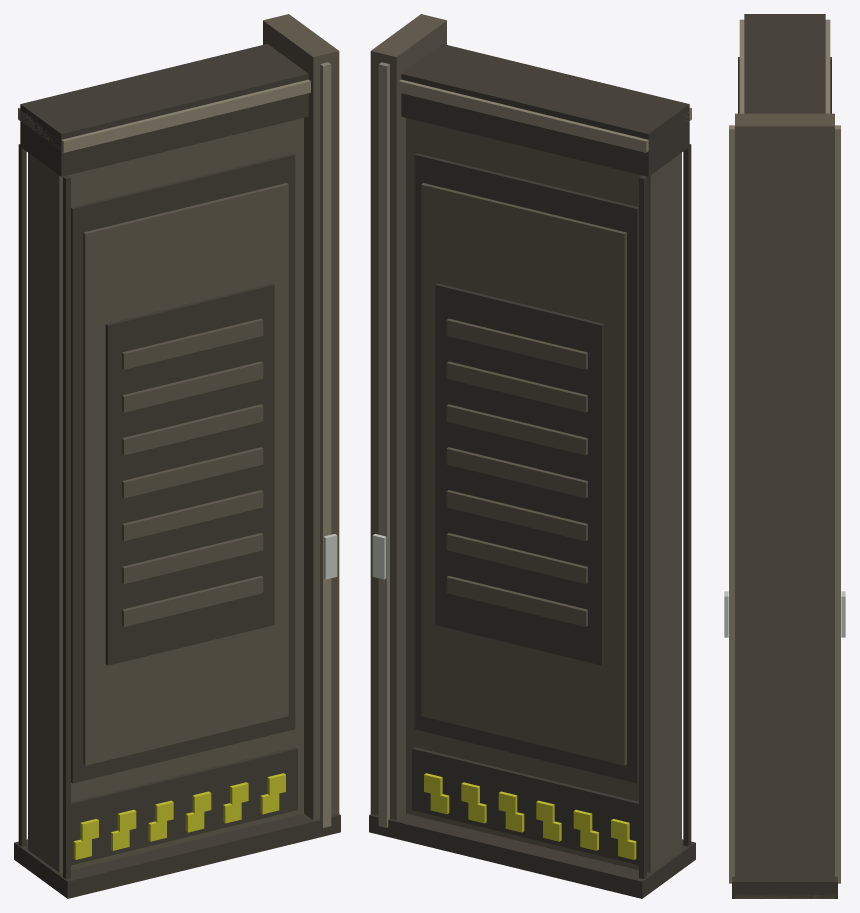
The model's file is CMU3DPairedGovforSolid.glb.
3 renders of one model, left to right at view 1: azimuth 30°, elevation 25°; view 2: azimuth 150°, elevation 25°; view 3: azimuth 270°, elevation 25°, orthographic.
Visible parts, largest first — view 1: inner face panel, single closed door leaf, large recessed solid panel, outer door jamb, leaf recessed face, continuous top track, solid panel narrow louvers (×7), meeting edge seal (×2), lower hazard band, outer jamb highlight, threshold, top track lip (+1 smaller); view 2: inner face panel back, single closed door leaf, large recessed solid panel back, outer door jamb, leaf recessed face back, continuous top track, solid panel narrow louvers back (×7), meeting edge seal (×2), lower hazard band back, outer jamb highlight, threshold, top track lip (+1 smaller); view 3: outer door jamb, outer jamb highlight (×2), continuous top track, threshold, top track lip.
Part boxes in pixels (x1,y1,x2,y2): inner face panel: (83,183,288,765); single closed door leaf: (28,118,303,872); large recessed solid panel: (105,283,274,665); outer door jamb: (263,14,339,820); leaf recessed face: (71,153,295,783); continuous top track: (20,44,308,176); solid panel narrow louvers (×7): (122,318,263,626); meeting edge seal (×2): (18,144,70,878); lower hazard band: (71,747,297,865); outer jamb highlight: (320,62,331,827); threshold: (14,813,340,898); top track lip: (18,79,310,152); inner face panel back: (421,183,626,765); single closed door leaf: (406,118,681,872); large recessed solid panel back: (435,283,604,665); outer door jamb: (370,14,446,820); leaf recessed face back: (414,153,638,783); continuous top track: (401,44,689,176); solid panel narrow louvers back (×7): (446,318,587,626); meeting edge seal (×2): (639,144,691,878); lower hazard band back: (412,747,638,865); outer jamb highlight: (378,62,389,827); threshold: (369,813,695,898); top track lip: (399,79,691,152); outer door jamb: (735,113,834,898); outer jamb highlight (×2): (729,125,840,883); continuous top track: (744,14,825,113); threshold: (732,876,837,898); top track lip: (739,19,830,113).
Bounding box in the file's own units: 1 × 2.73 × 0.388.
